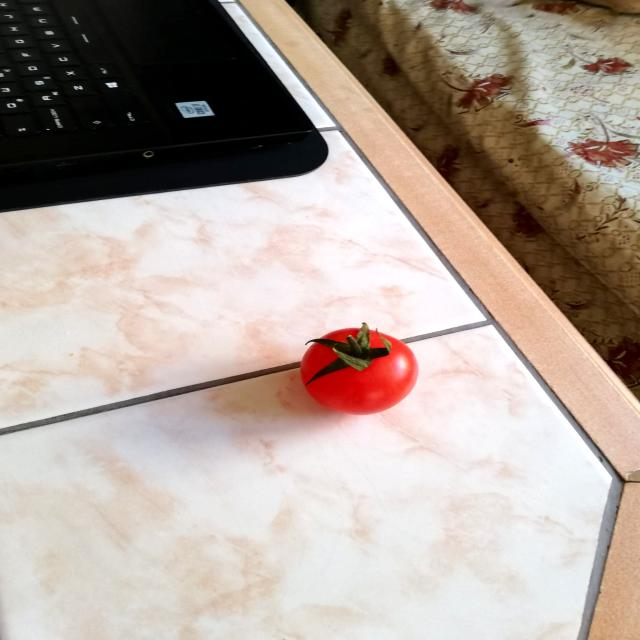tomato: (293, 318, 422, 418)
